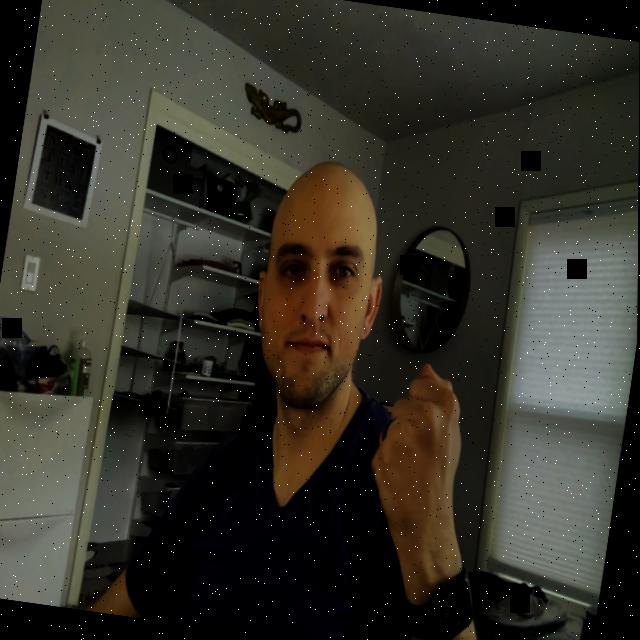Rock: (360, 353, 477, 544)
